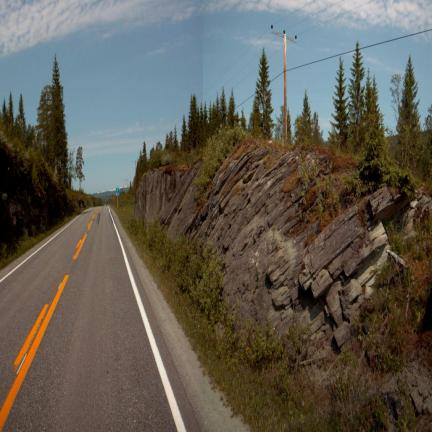Road: (0, 207, 242, 430)
